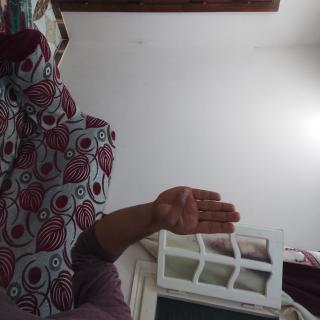KAAF: (136, 100, 181, 222)
